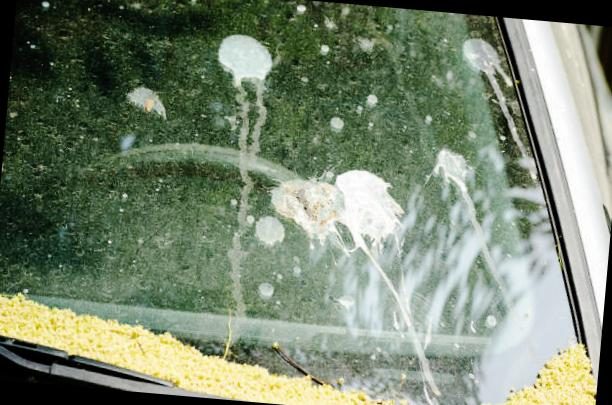Bird Poop: (336, 169, 440, 405), (218, 34, 272, 357), (434, 149, 516, 319), (462, 37, 535, 179), (271, 179, 348, 250), (128, 86, 165, 117), (254, 215, 285, 244), (519, 309, 533, 340), (335, 295, 355, 308), (358, 36, 374, 50), (260, 282, 274, 296), (330, 117, 342, 129), (485, 315, 496, 327), (366, 93, 377, 105), (320, 44, 328, 53), (297, 4, 305, 13)
